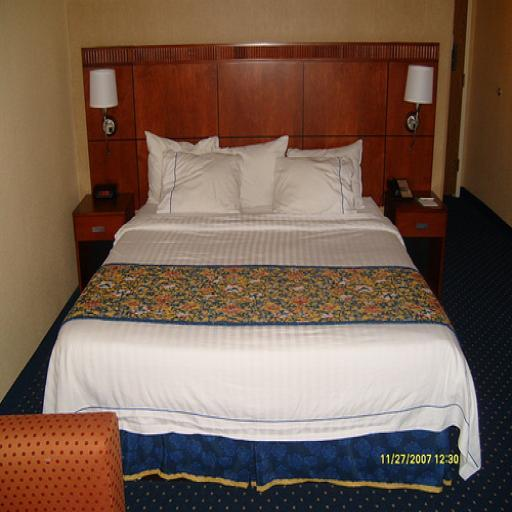bed: (26, 110, 484, 512)
